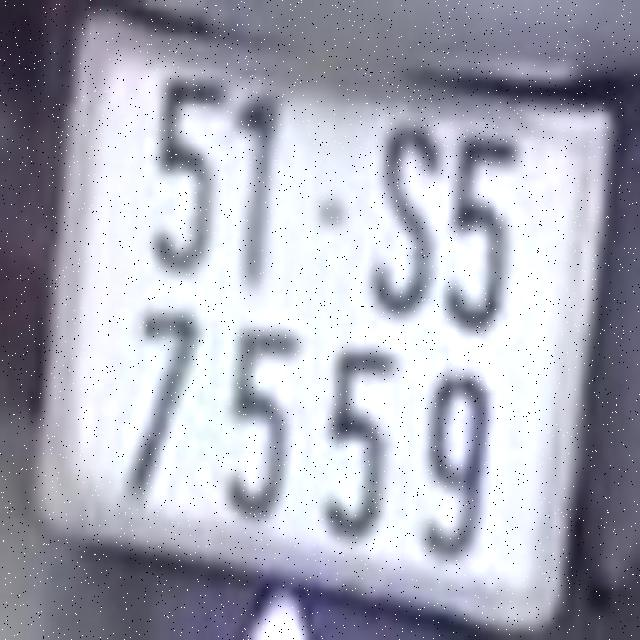1: (233, 89, 280, 288)
5: (150, 73, 224, 272), (447, 130, 517, 330), (227, 324, 296, 519), (326, 347, 393, 539)
7: (122, 307, 200, 504)
9: (424, 372, 487, 559)
S: (371, 121, 438, 313)
